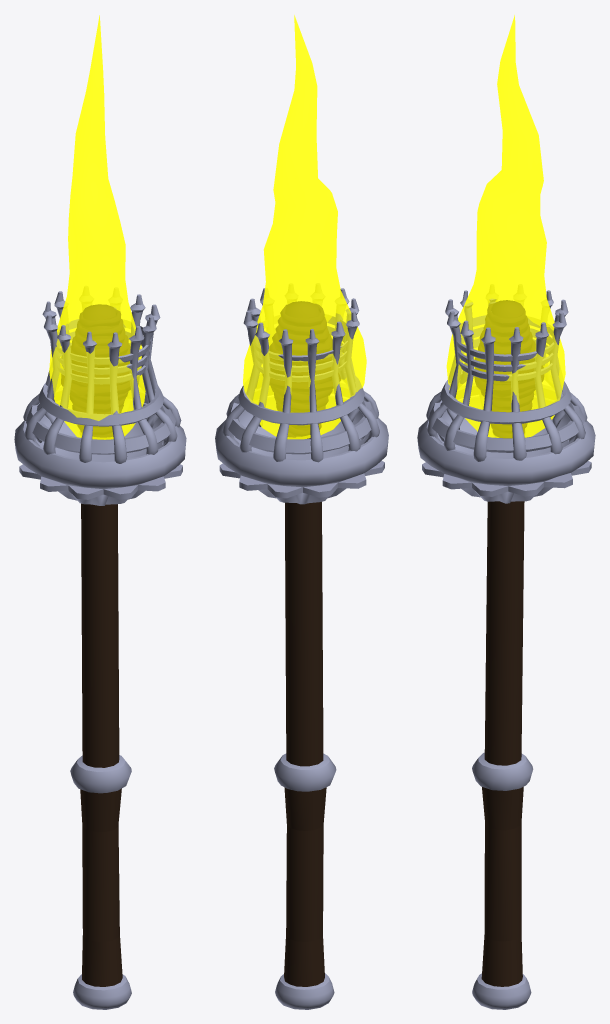
The model's file is torch.fbx.
3 views of the same model, side by side, from view 1: azimuth 30°, elevation 25°; view 2: azimuth 150°, elevation 25°; view 3: azimuth 270°, elevation 25° (orthographic).
Parts seen in each view (by area): view 1: torche_metallic_clean, torche_wood_leather, torche_fire_flame; view 2: torche_fire_flame, torche_metallic_clean, torche_wood_leather; view 3: torche_metallic_clean, torche_fire_flame, torche_wood_leather.
Boxes of the visible parts, x1,y1,x2,y2 form: torche_metallic_clean: (14,291,186,1009); torche_wood_leather: (61,304,130,986); torche_fire_flame: (49,15,145,439); torche_fire_flame: (243,15,366,439); torche_metallic_clean: (215,288,388,1009); torche_wood_leather: (262,301,340,986); torche_metallic_clean: (417,290,595,1009); torche_fire_flame: (446,15,565,438); torche_wood_leather: (474,300,543,986).
Size of the model in its own units: 1.99 by 12.62 by 2.06.
